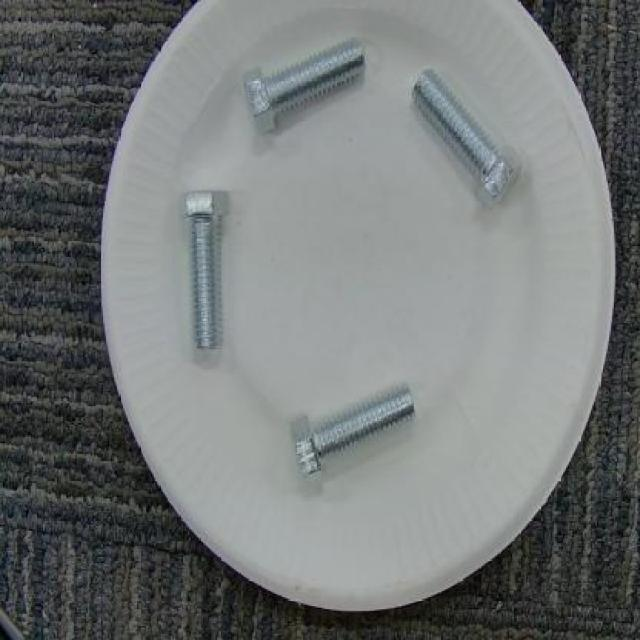Bolt: (408, 66, 524, 212), (242, 32, 371, 136), (290, 386, 420, 480), (179, 190, 228, 356)
